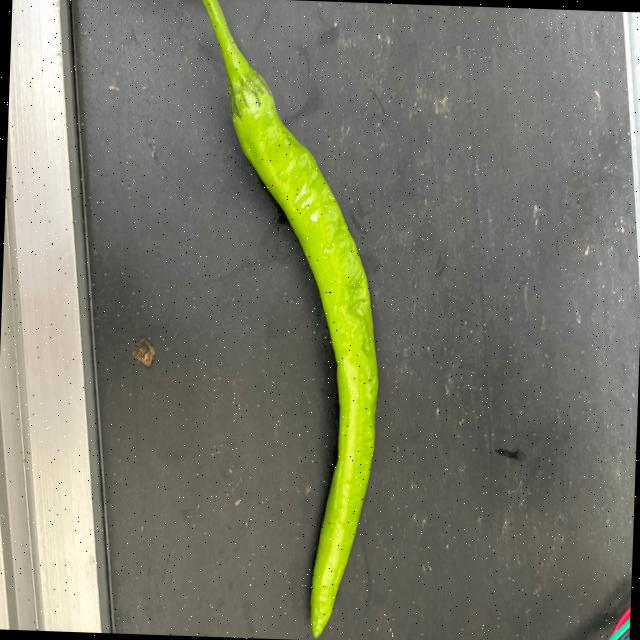chili: (227, 64, 379, 640)
